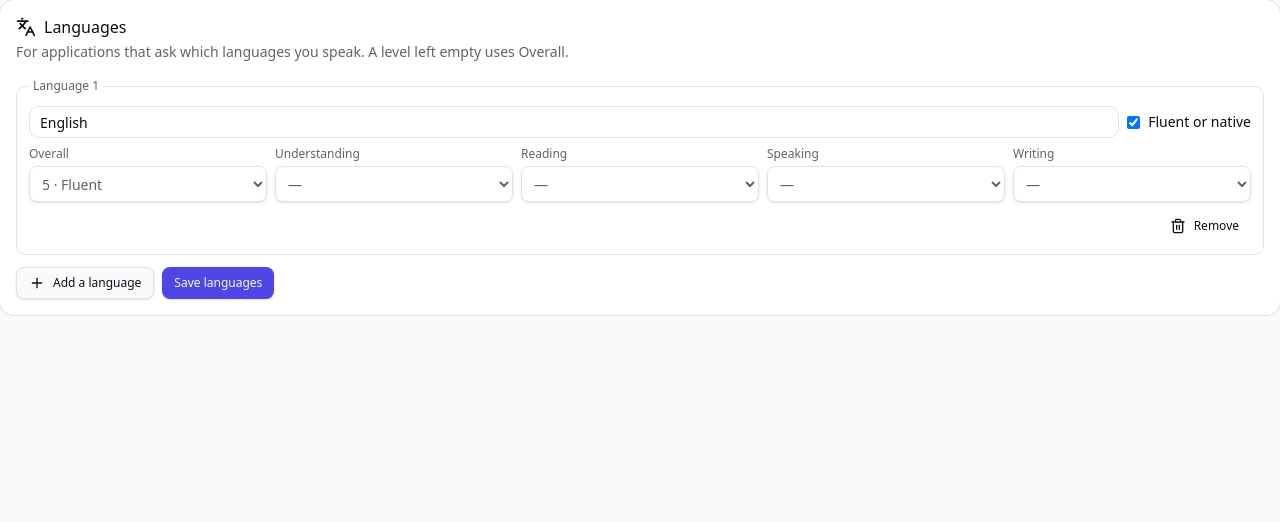
Test: Languages on Autofill memory › shows the saved languages; adding one with levels saves only the languages
Expected: the field showing "English" is shown, [29,106,1119,138]
Click the button "Add a language".
click(85, 283)  # box [16,267,154,299]
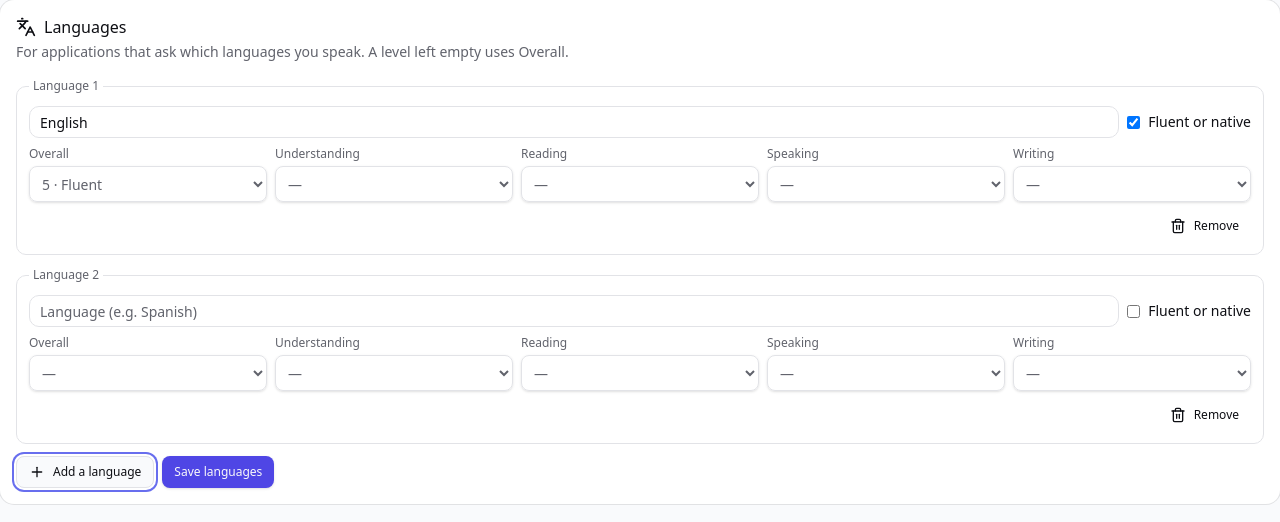
Type "Spanish" into the field named "Language 2".
click(574, 311); type("Spanish")  # box [29,295,1119,327]
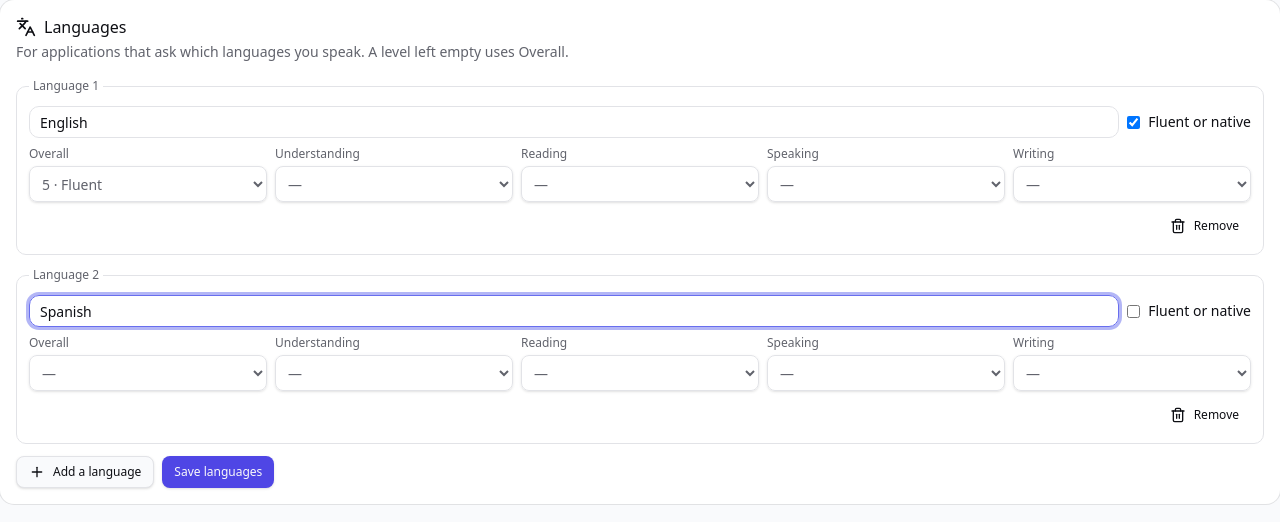
Select "4 · Advanced" in the dropdown named "Spanish understanding level" at (394, 373), box [275,355,513,391]
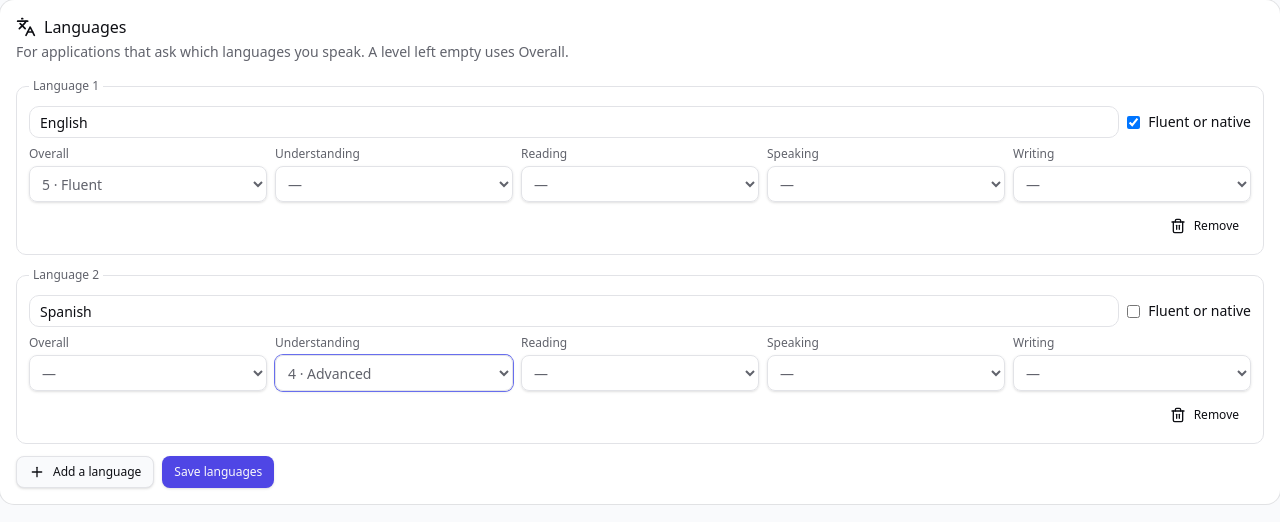
Select "3 · Intermediate" in the dropdown named "Spanish writing level" at (1132, 373), box [1013,355,1251,391]
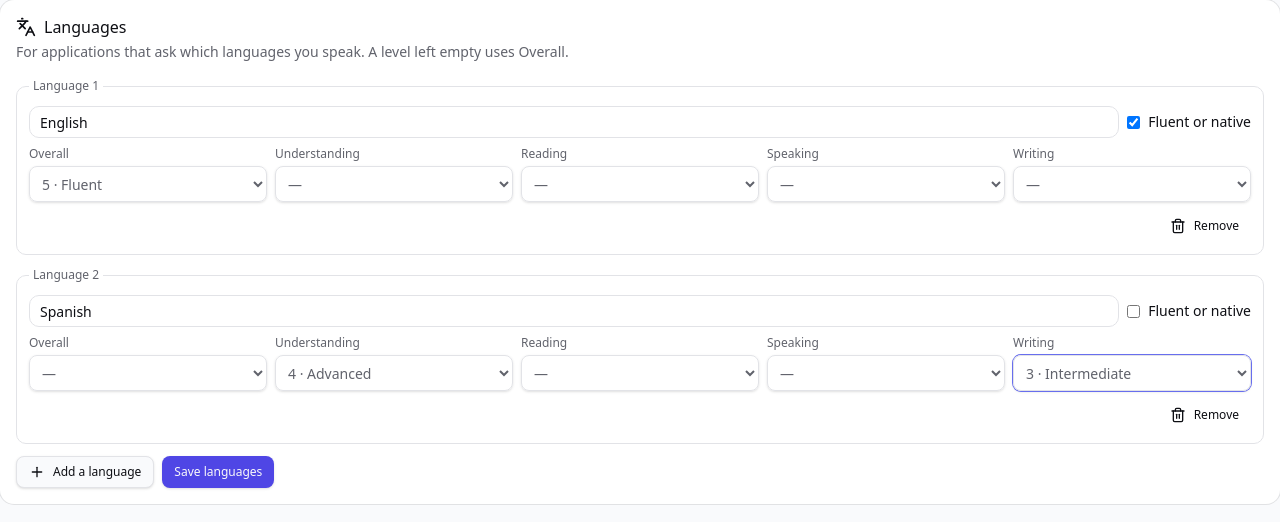
Click the button "Save languages".
click(218, 472)  # box [162,456,274,488]
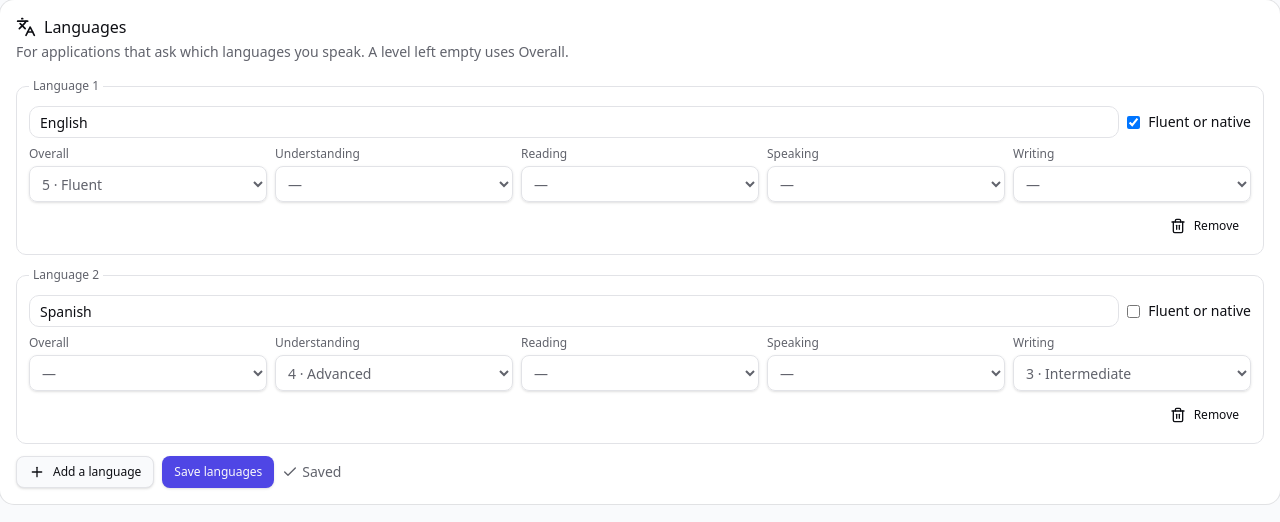
Now the message reads "Saved", box [302,462,342,481]
